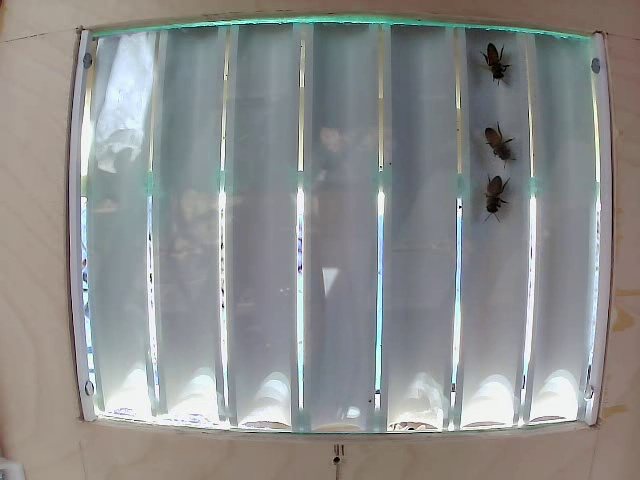bee: (488, 173, 517, 227), (475, 34, 502, 87), (485, 130, 514, 170)
